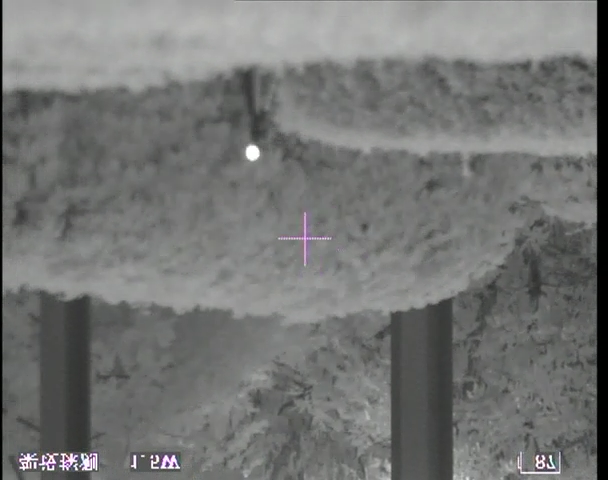my: (244, 144, 261, 163)
